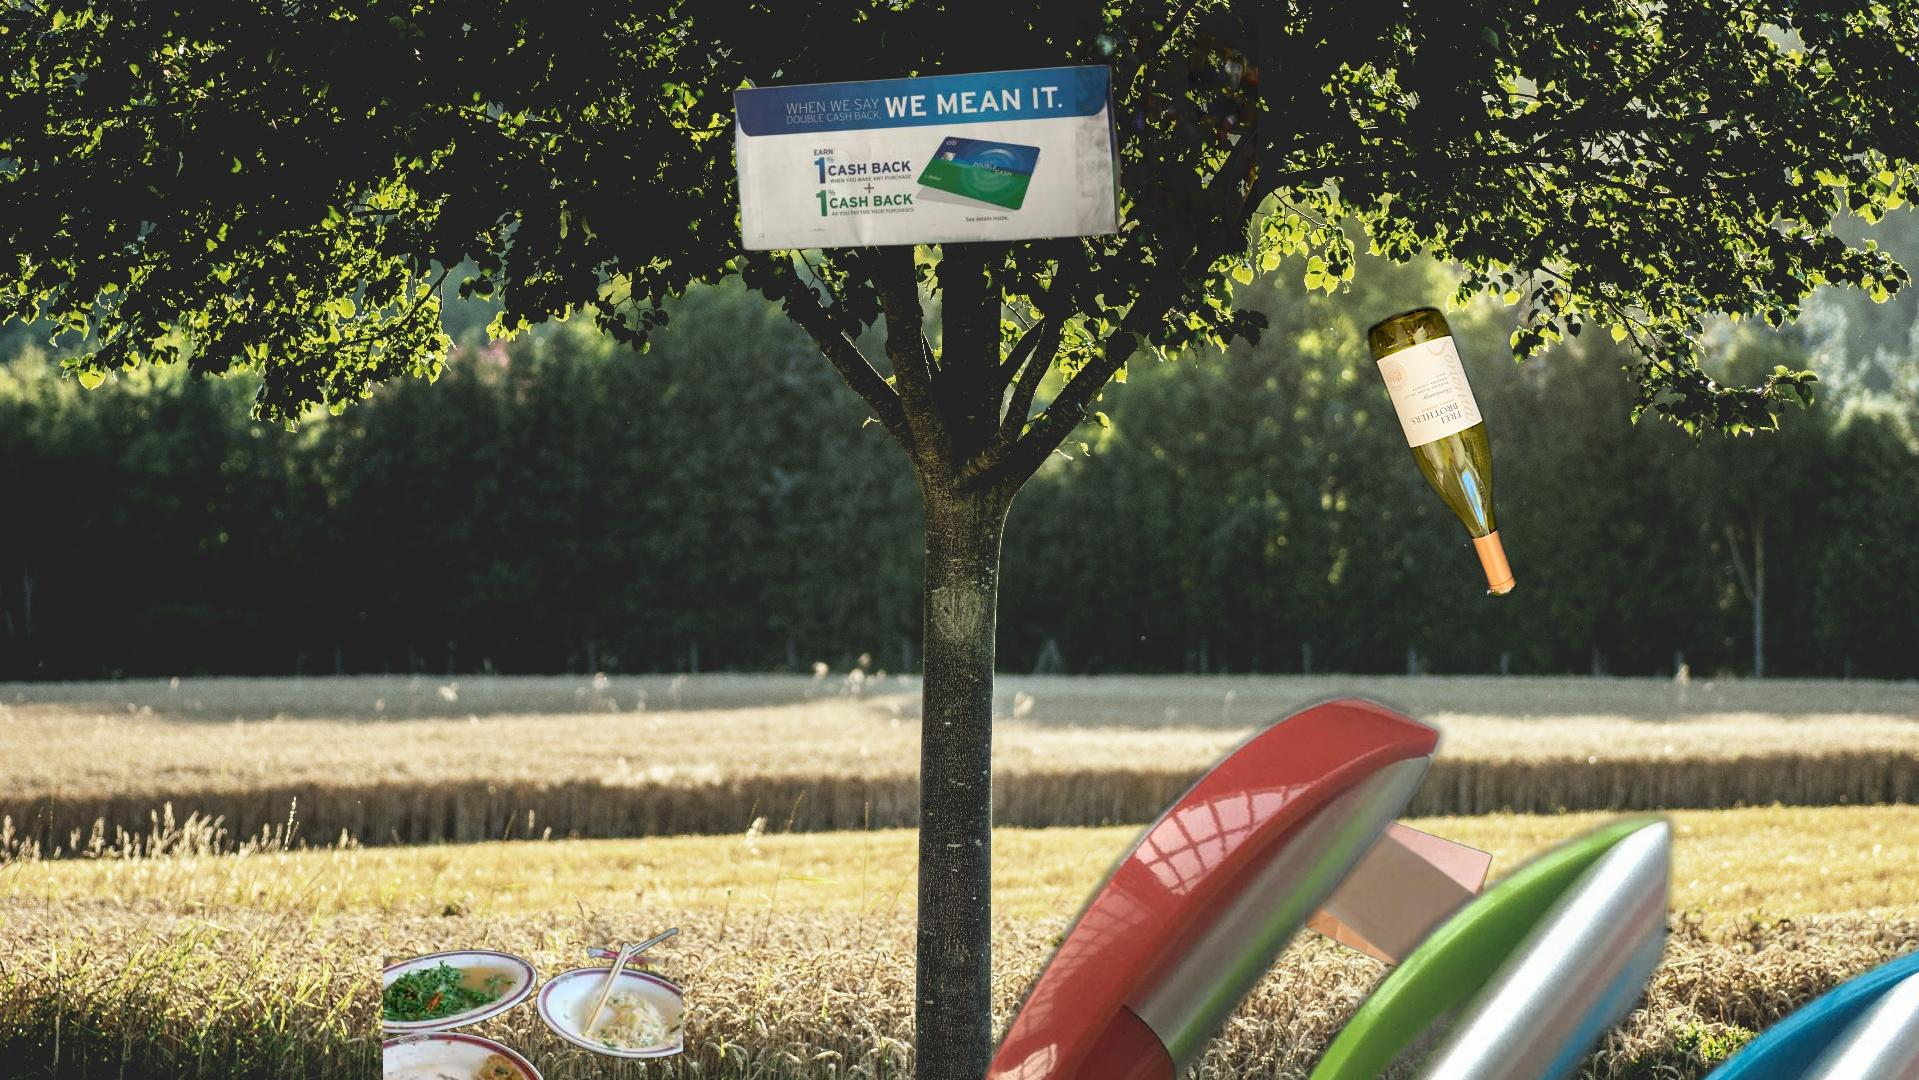biological: (1075, 15, 1257, 290), (384, 920, 683, 1080)
glass: (1363, 302, 1521, 603)
paper: (728, 62, 1126, 255)
paper-bag: (1303, 810, 1524, 1007), (1369, 1052, 1578, 1080)
penholder: (289, 679, 1919, 1080)
trashbox-cardboard: (103, 989, 590, 1080)
